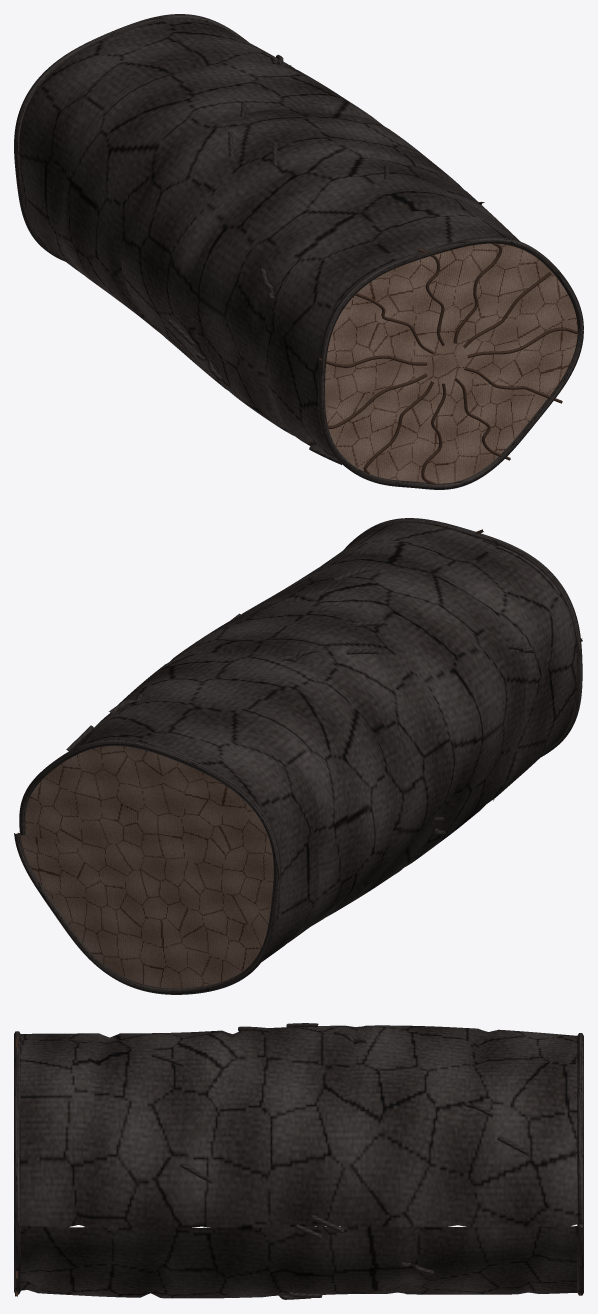
Rendered from burnt_venison.glb.
3 renders of one model, top to bottom at view 1: azimuth 30°, elevation 25°; view 2: azimuth 150°, elevation 25°; view 3: azimuth 270°, elevation 25°, orthographic. The views are drawn at different scales.
Parts seen in each view (by area): view 1: Venison burnt outer muscle, Venison burnt cut face, Venison connective rim, Dry fissure interior; view 2: Venison burnt outer muscle, Venison burnt cut face, Venison connective rim; view 3: Venison burnt outer muscle, Venison connective rim.
Part boxes in pixels (x1,y1,x2,y2): Venison burnt outer muscle: (19, 18, 520, 462); Venison burnt cut face: (325, 243, 577, 483); Venison connective rim: (14, 14, 583, 489); Dry fissure interior: (318, 242, 577, 485); Venison burnt outer muscle: (70, 522, 577, 961); Venison burnt cut face: (17, 746, 273, 988); Venison connective rim: (14, 518, 582, 994); Venison burnt outer muscle: (17, 1025, 580, 1298); Venison connective rim: (14, 1023, 583, 1299).
Bounding box in the file's own units: 0.163 × 0.1477 × 0.3086.
4 materials, 3 textured.
